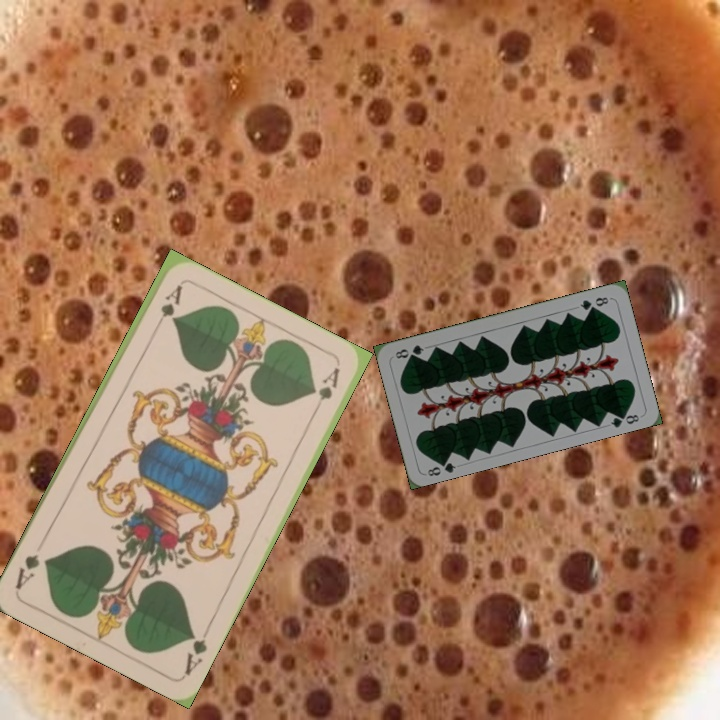G8: (423, 455, 458, 479), (576, 293, 611, 313)
GA: (148, 281, 185, 336), (179, 622, 213, 679)
